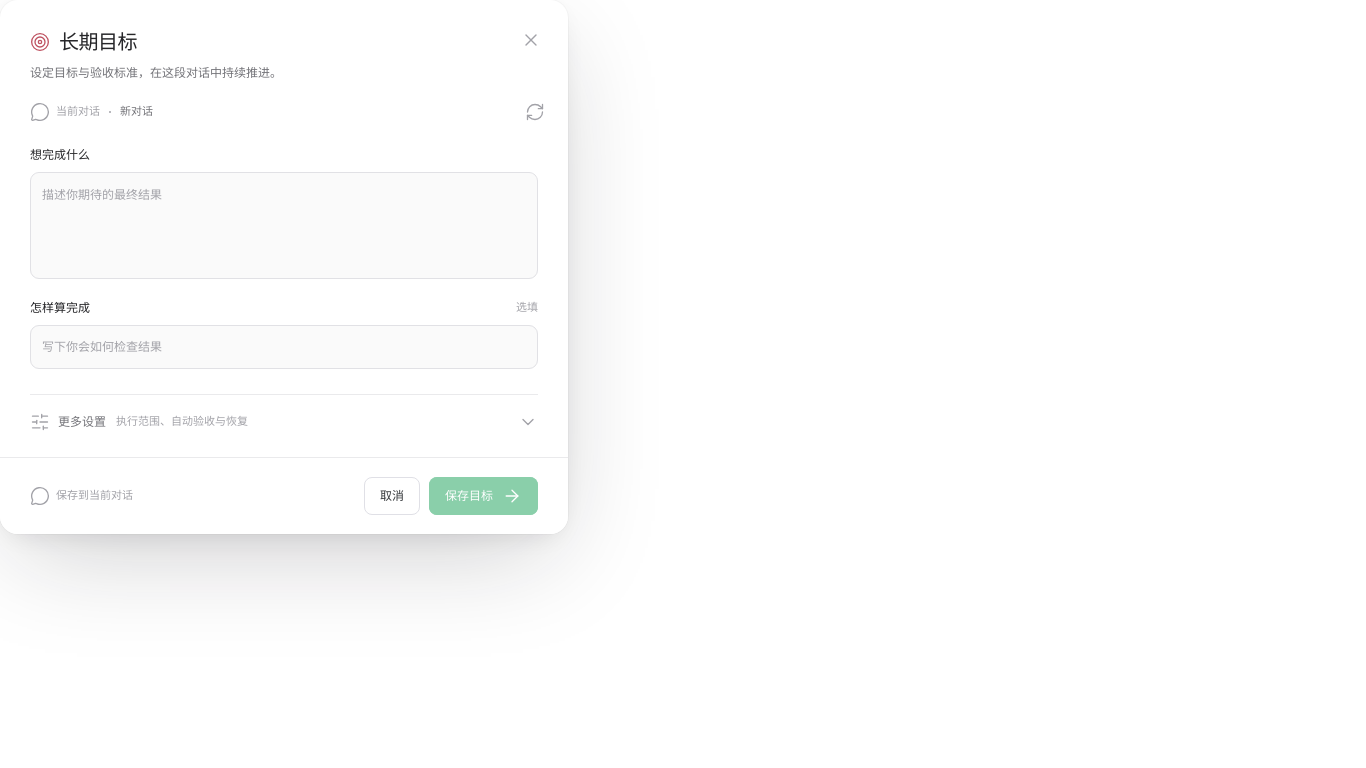
Test: durable goal workbench › requires a saved contract and never presents model completion as verified success
Step 1. Type "修复构建" into the text box labelled "想完成什么 描述你期待的最终结果" → (284, 226), box [42,172,526,279]
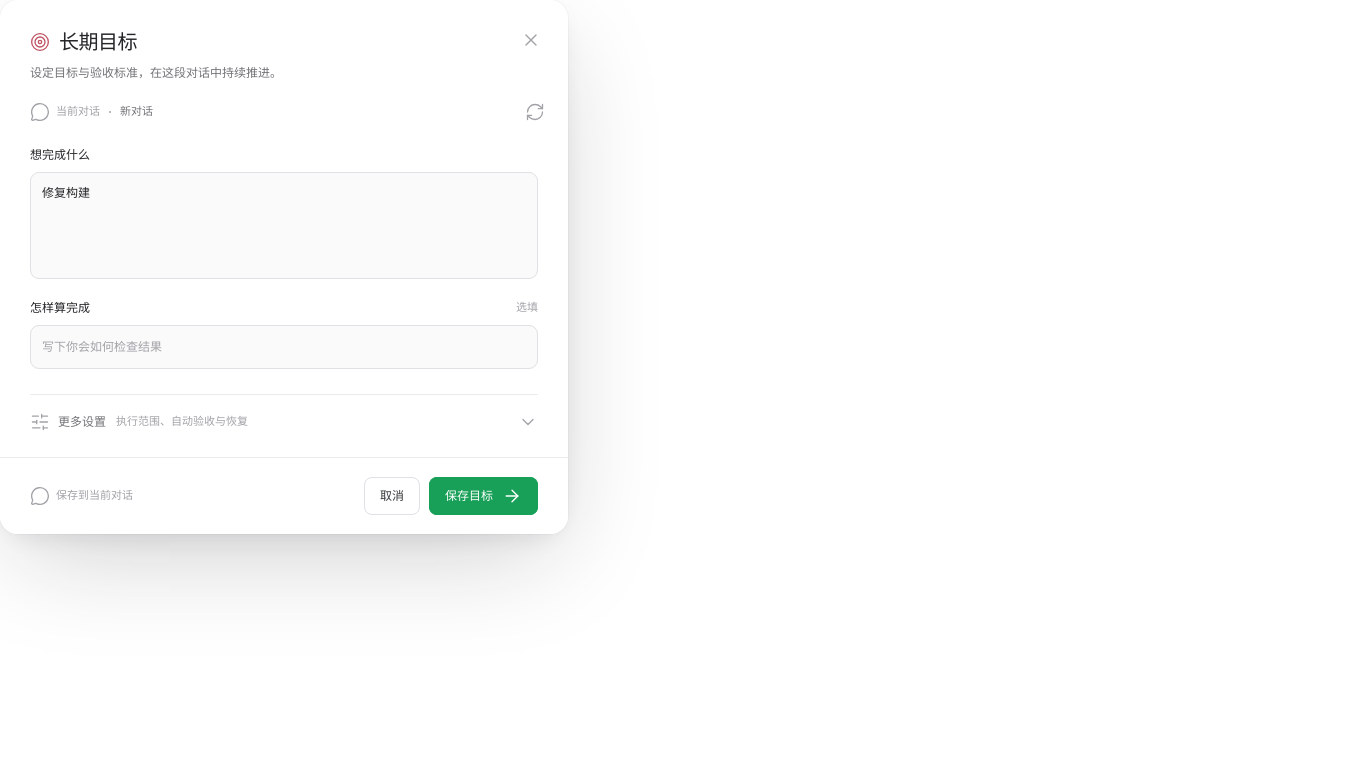
Step 2. Click the button "保存目标" → click(484, 496), box [429,477,538,515]
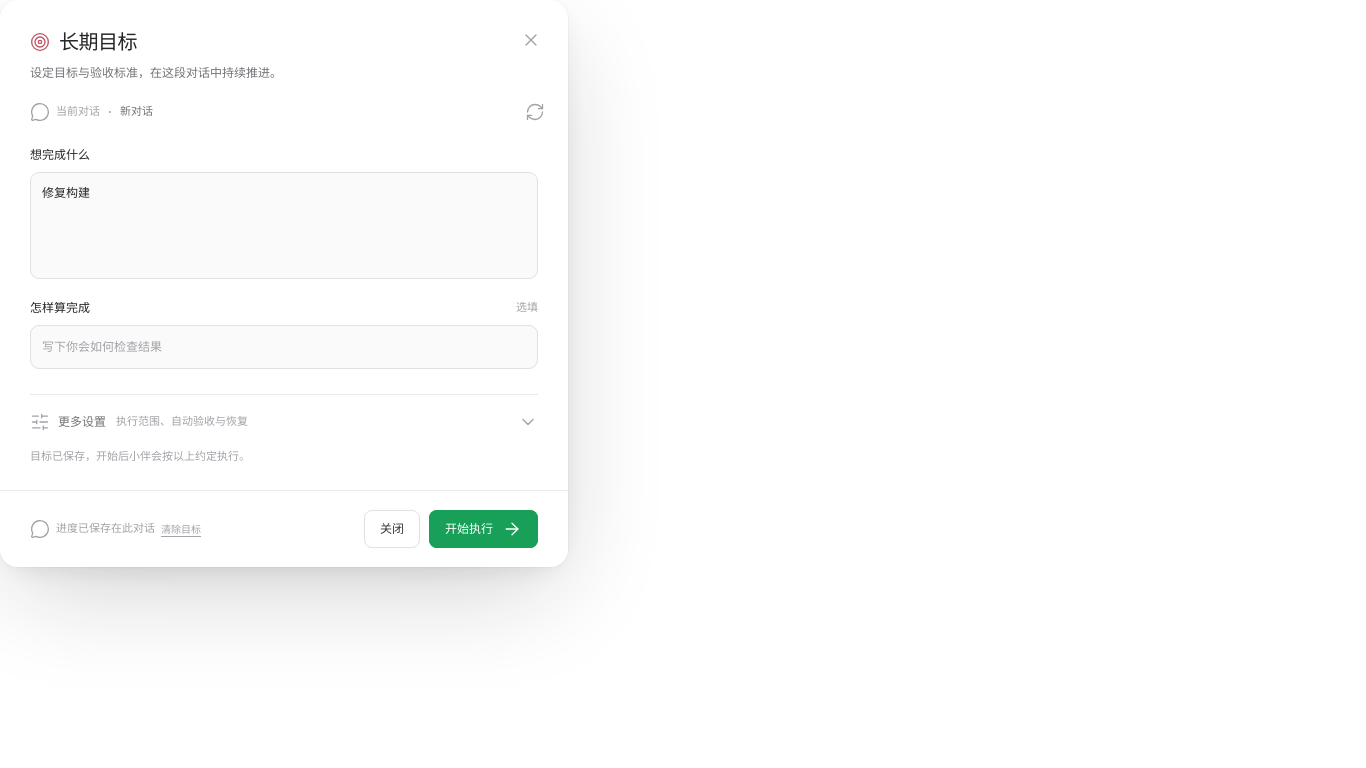
Step 3. Click the button with test id "goal-start" → click(484, 529), box [429,510,538,548]
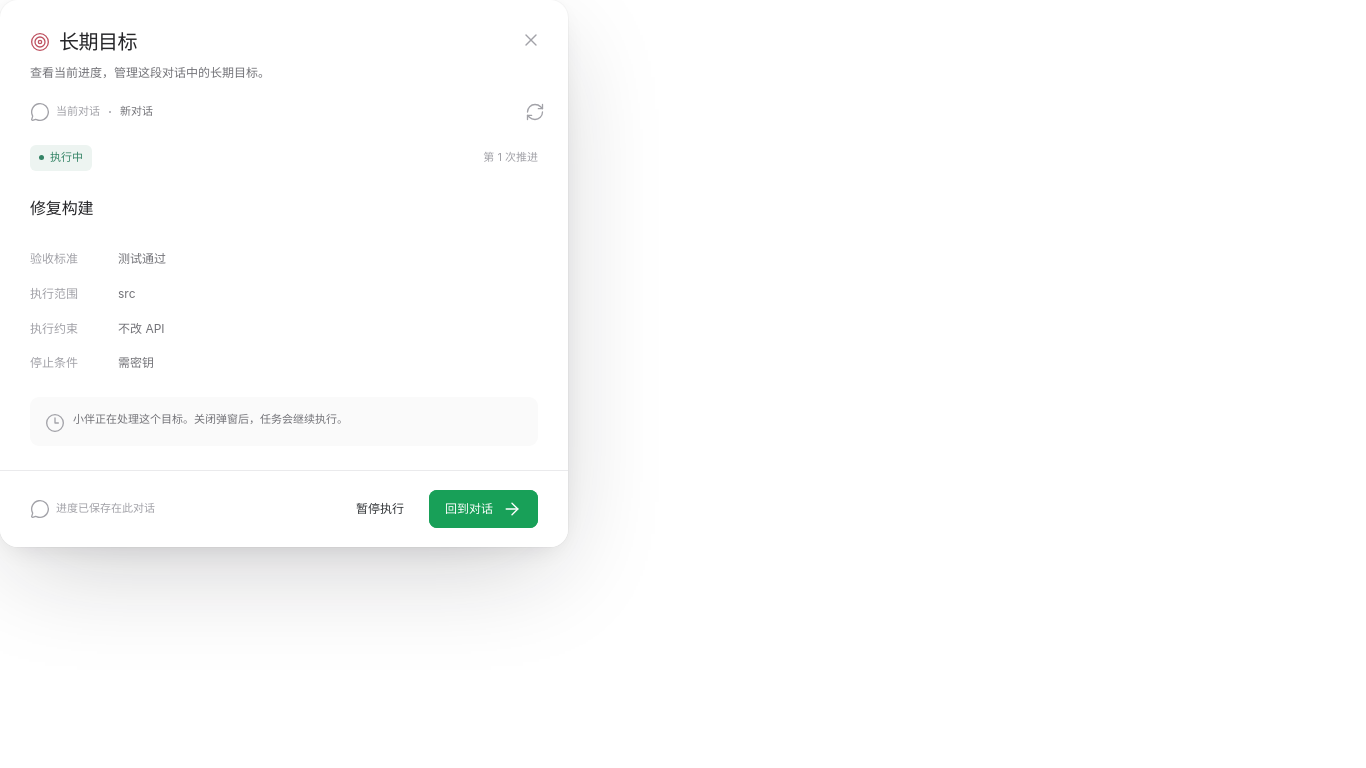
Expected: the element with test id "goal-state" reads "执行中", [50,150,83,164]
